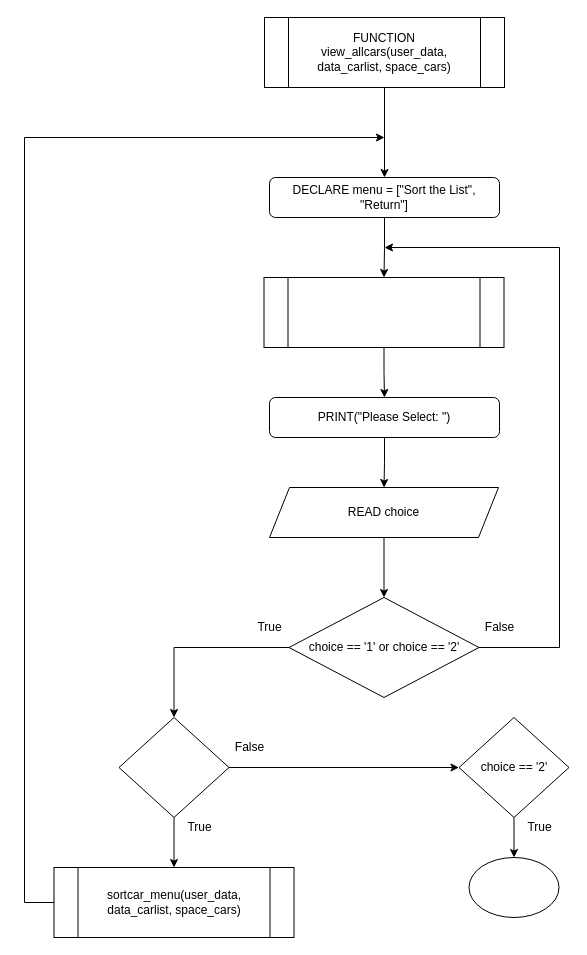
The diagram is 587 pixels wide and 955 high, and some of its shapes have lost their labels. The box of each missing label's shape, as (x1, y1, x2, y2) in pixels:
choice == '1': (118, 716, 229, 818)
default.general_menu(menu): (263, 276, 504, 348)
Return: (468, 856, 559, 918)
